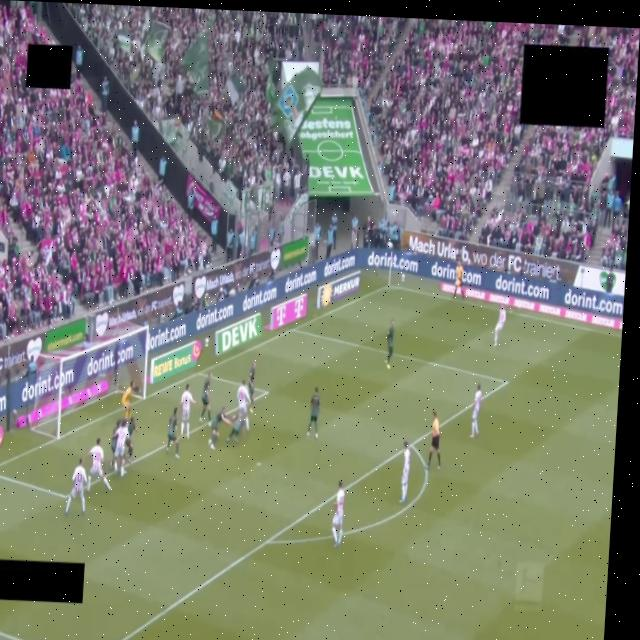player: (65, 458, 87, 515), (87, 438, 110, 491), (208, 407, 231, 450), (114, 419, 129, 477), (332, 481, 345, 546), (181, 384, 195, 439), (237, 380, 251, 431), (307, 387, 320, 438), (470, 384, 482, 437), (125, 416, 139, 461), (400, 441, 410, 503), (167, 408, 179, 458), (227, 411, 245, 443), (121, 382, 136, 420), (200, 373, 211, 421), (494, 305, 506, 346), (111, 419, 120, 469), (248, 361, 256, 412), (386, 320, 394, 369)
referee: (426, 411, 440, 469)
